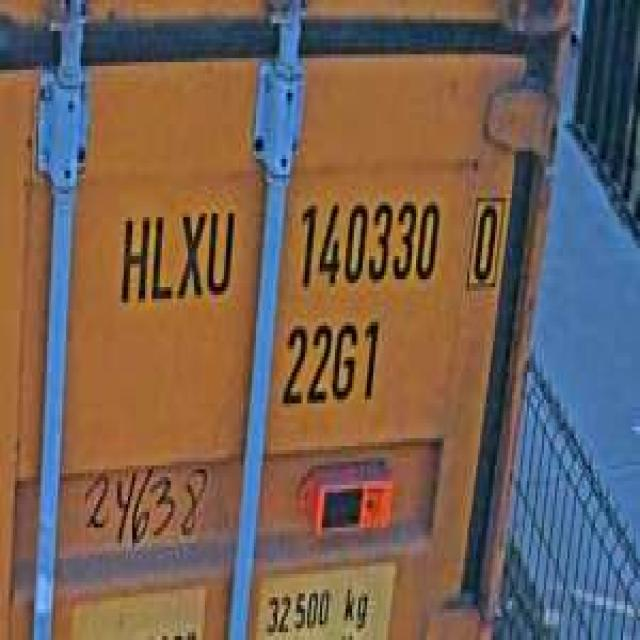dv: (463, 182, 508, 299)
owner: (113, 190, 239, 314)
serial: (290, 186, 442, 295)
size: (277, 310, 384, 415)
